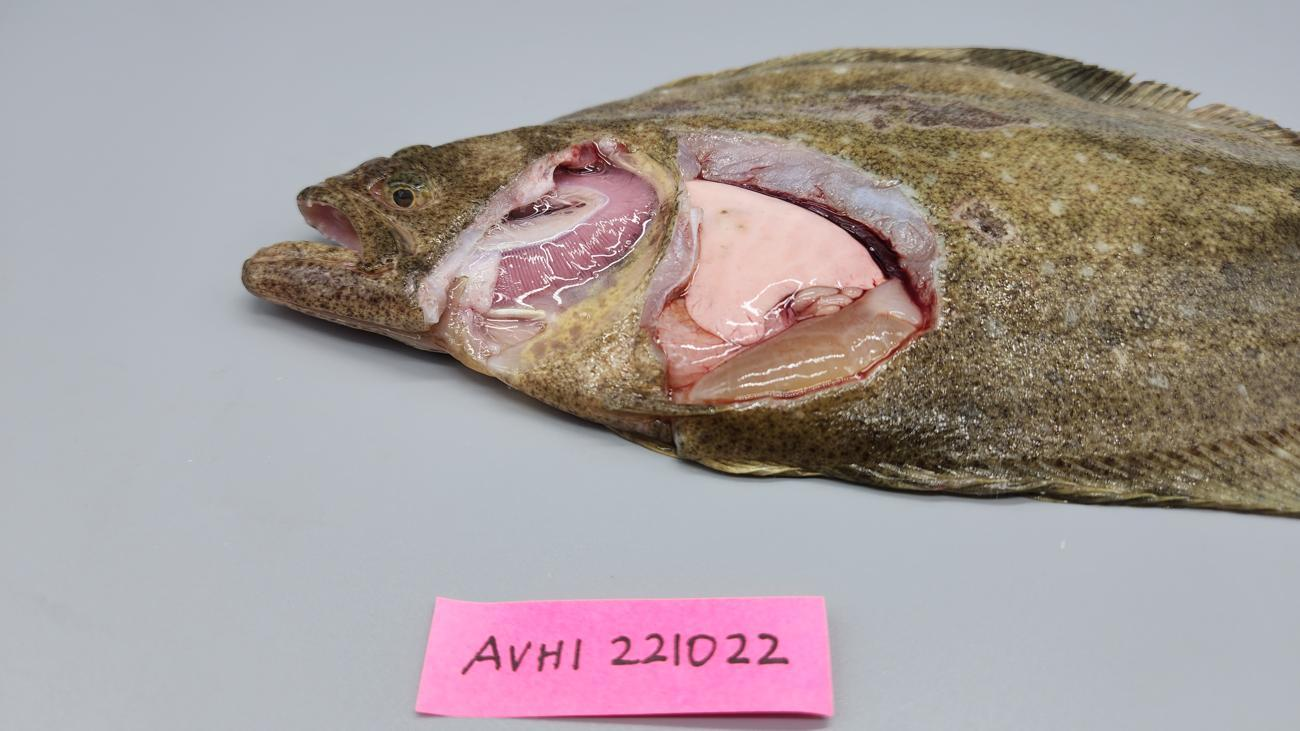VIGIP: (496, 165, 656, 297)
